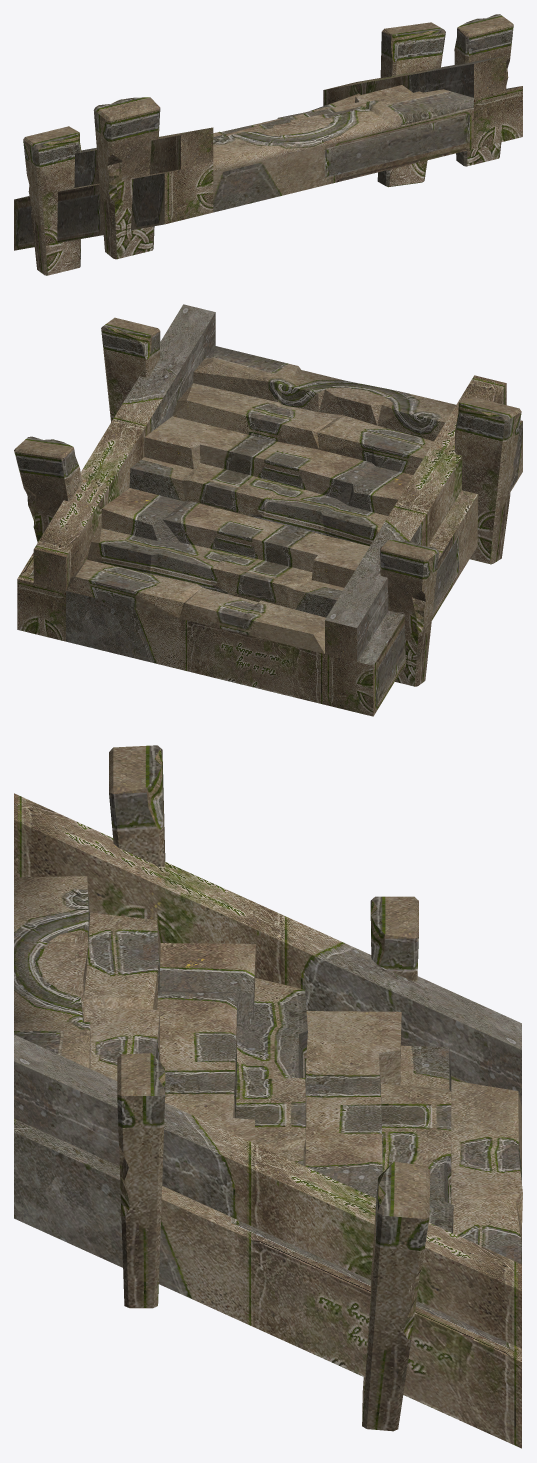
The model's file is bg_lut_lutomb_stair01_sm_old.FBX.
3 views of the same model, one above another, from view 1: azimuth 30°, elevation 25°; view 2: azimuth 150°, elevation 25°; view 3: azimuth 270°, elevation 25° (orthographic). The views are drawn at different scales.
Parts seen in each view (by area): view 1: bg_lut_lutomb_stair01_sm_old; view 2: bg_lut_lutomb_stair01_sm_old; view 3: bg_lut_lutomb_stair01_sm_old.
Boxes of the visible parts, <box> form: bg_lut_lutomb_stair01_sm_old: <box>14,14,522,275</box>; bg_lut_lutomb_stair01_sm_old: <box>14,304,522,716</box>; bg_lut_lutomb_stair01_sm_old: <box>14,745,522,1448</box>.
Size of the model in its own units: 617 by 323 by 385.
